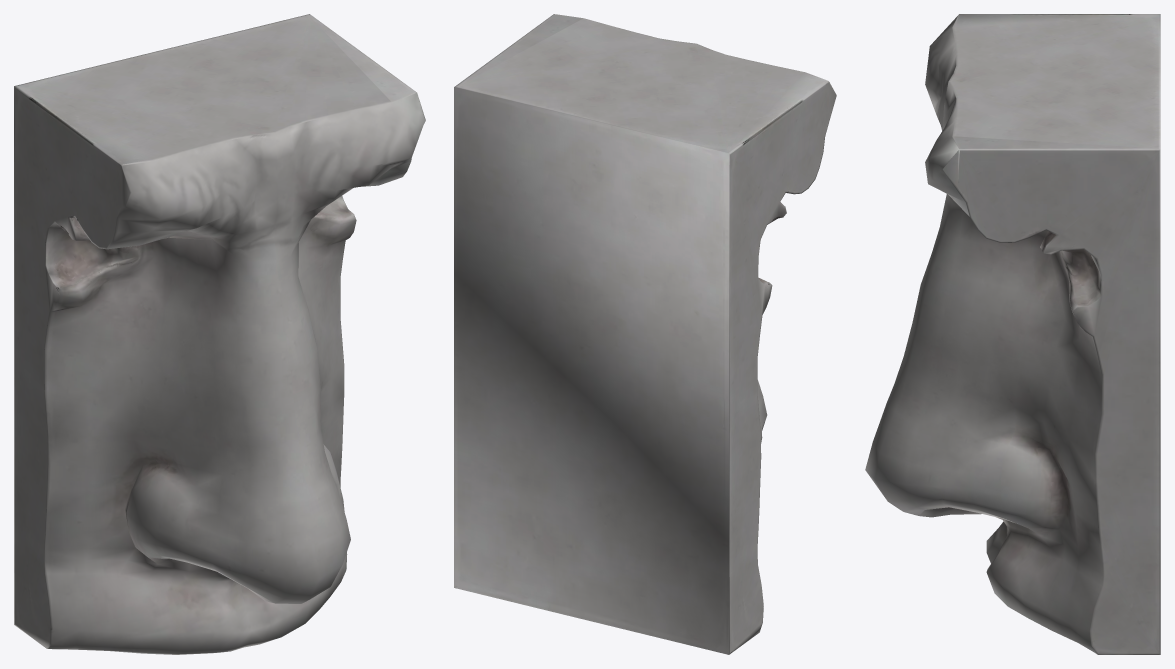
Rendered from 五官_nose_plaster_cast_opt.glb.
3 views of the same model, side by side, from view 1: azimuth 30°, elevation 25°; view 2: azimuth 150°, elevation 25°; view 3: azimuth 270°, elevation 25° (orthographic). The views are drawn at different scales.
Visible parts, largest first — view 1: Object_4; view 2: Object_4; view 3: Object_4.
Part boxes in pixels (x1,y1,x2,y2): Object_4: [14, 14, 425, 654]; Object_4: [454, 14, 836, 654]; Object_4: [865, 14, 1160, 654].
Bounding box in the file's own units: 0.1736 × 0.3 × 0.1589.
Materials: 1 (1 with a texture image).
